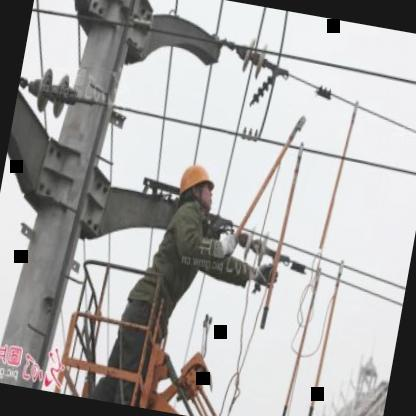helmet: (172, 158, 219, 220)
